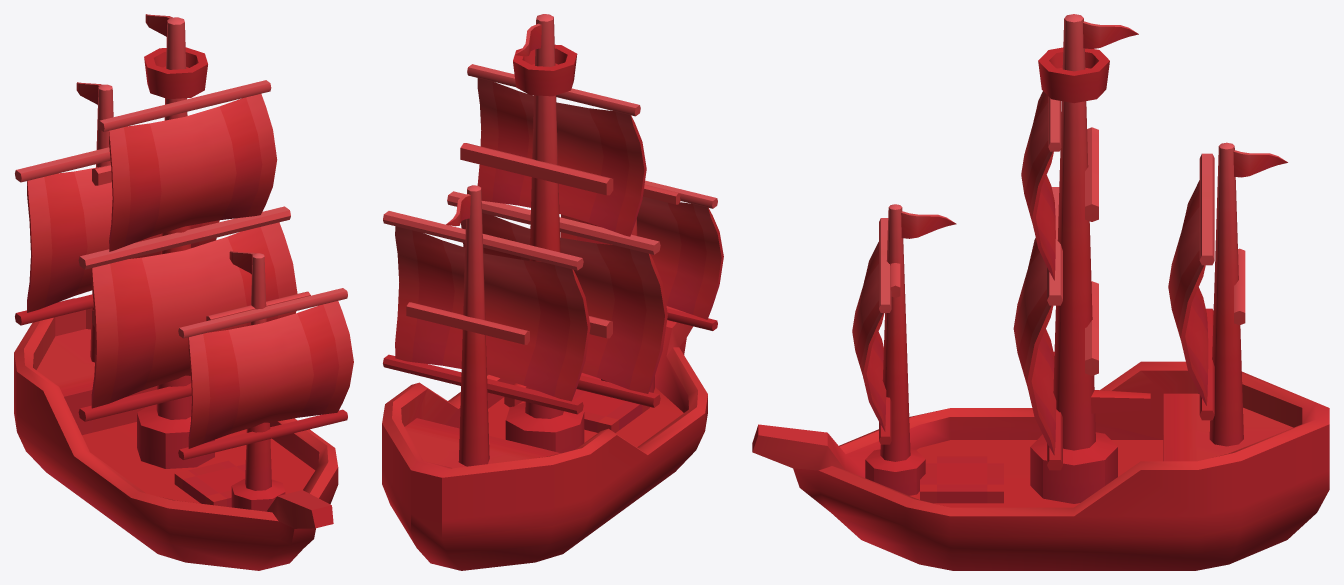
Rendered from hex_ship_red.glb.
The picture shows the model from 3 angles, left to right: view 1: azimuth 30°, elevation 25°; view 2: azimuth 150°, elevation 25°; view 3: azimuth 270°, elevation 25°; orthographic projection. The views are drawn at different scales.
Parts seen in each view (by area): view 1: ship_red_full; view 2: ship_red_full; view 3: ship_red_full.
Part boxes in pixels (x1,y1,x2,y2): ship_red_full: [14, 14, 353, 570]; ship_red_full: [382, 14, 723, 570]; ship_red_full: [752, 14, 1329, 570].
Size of the model in its own units: 1 by 2.24 by 2.26.
1 material, 1 textured.
